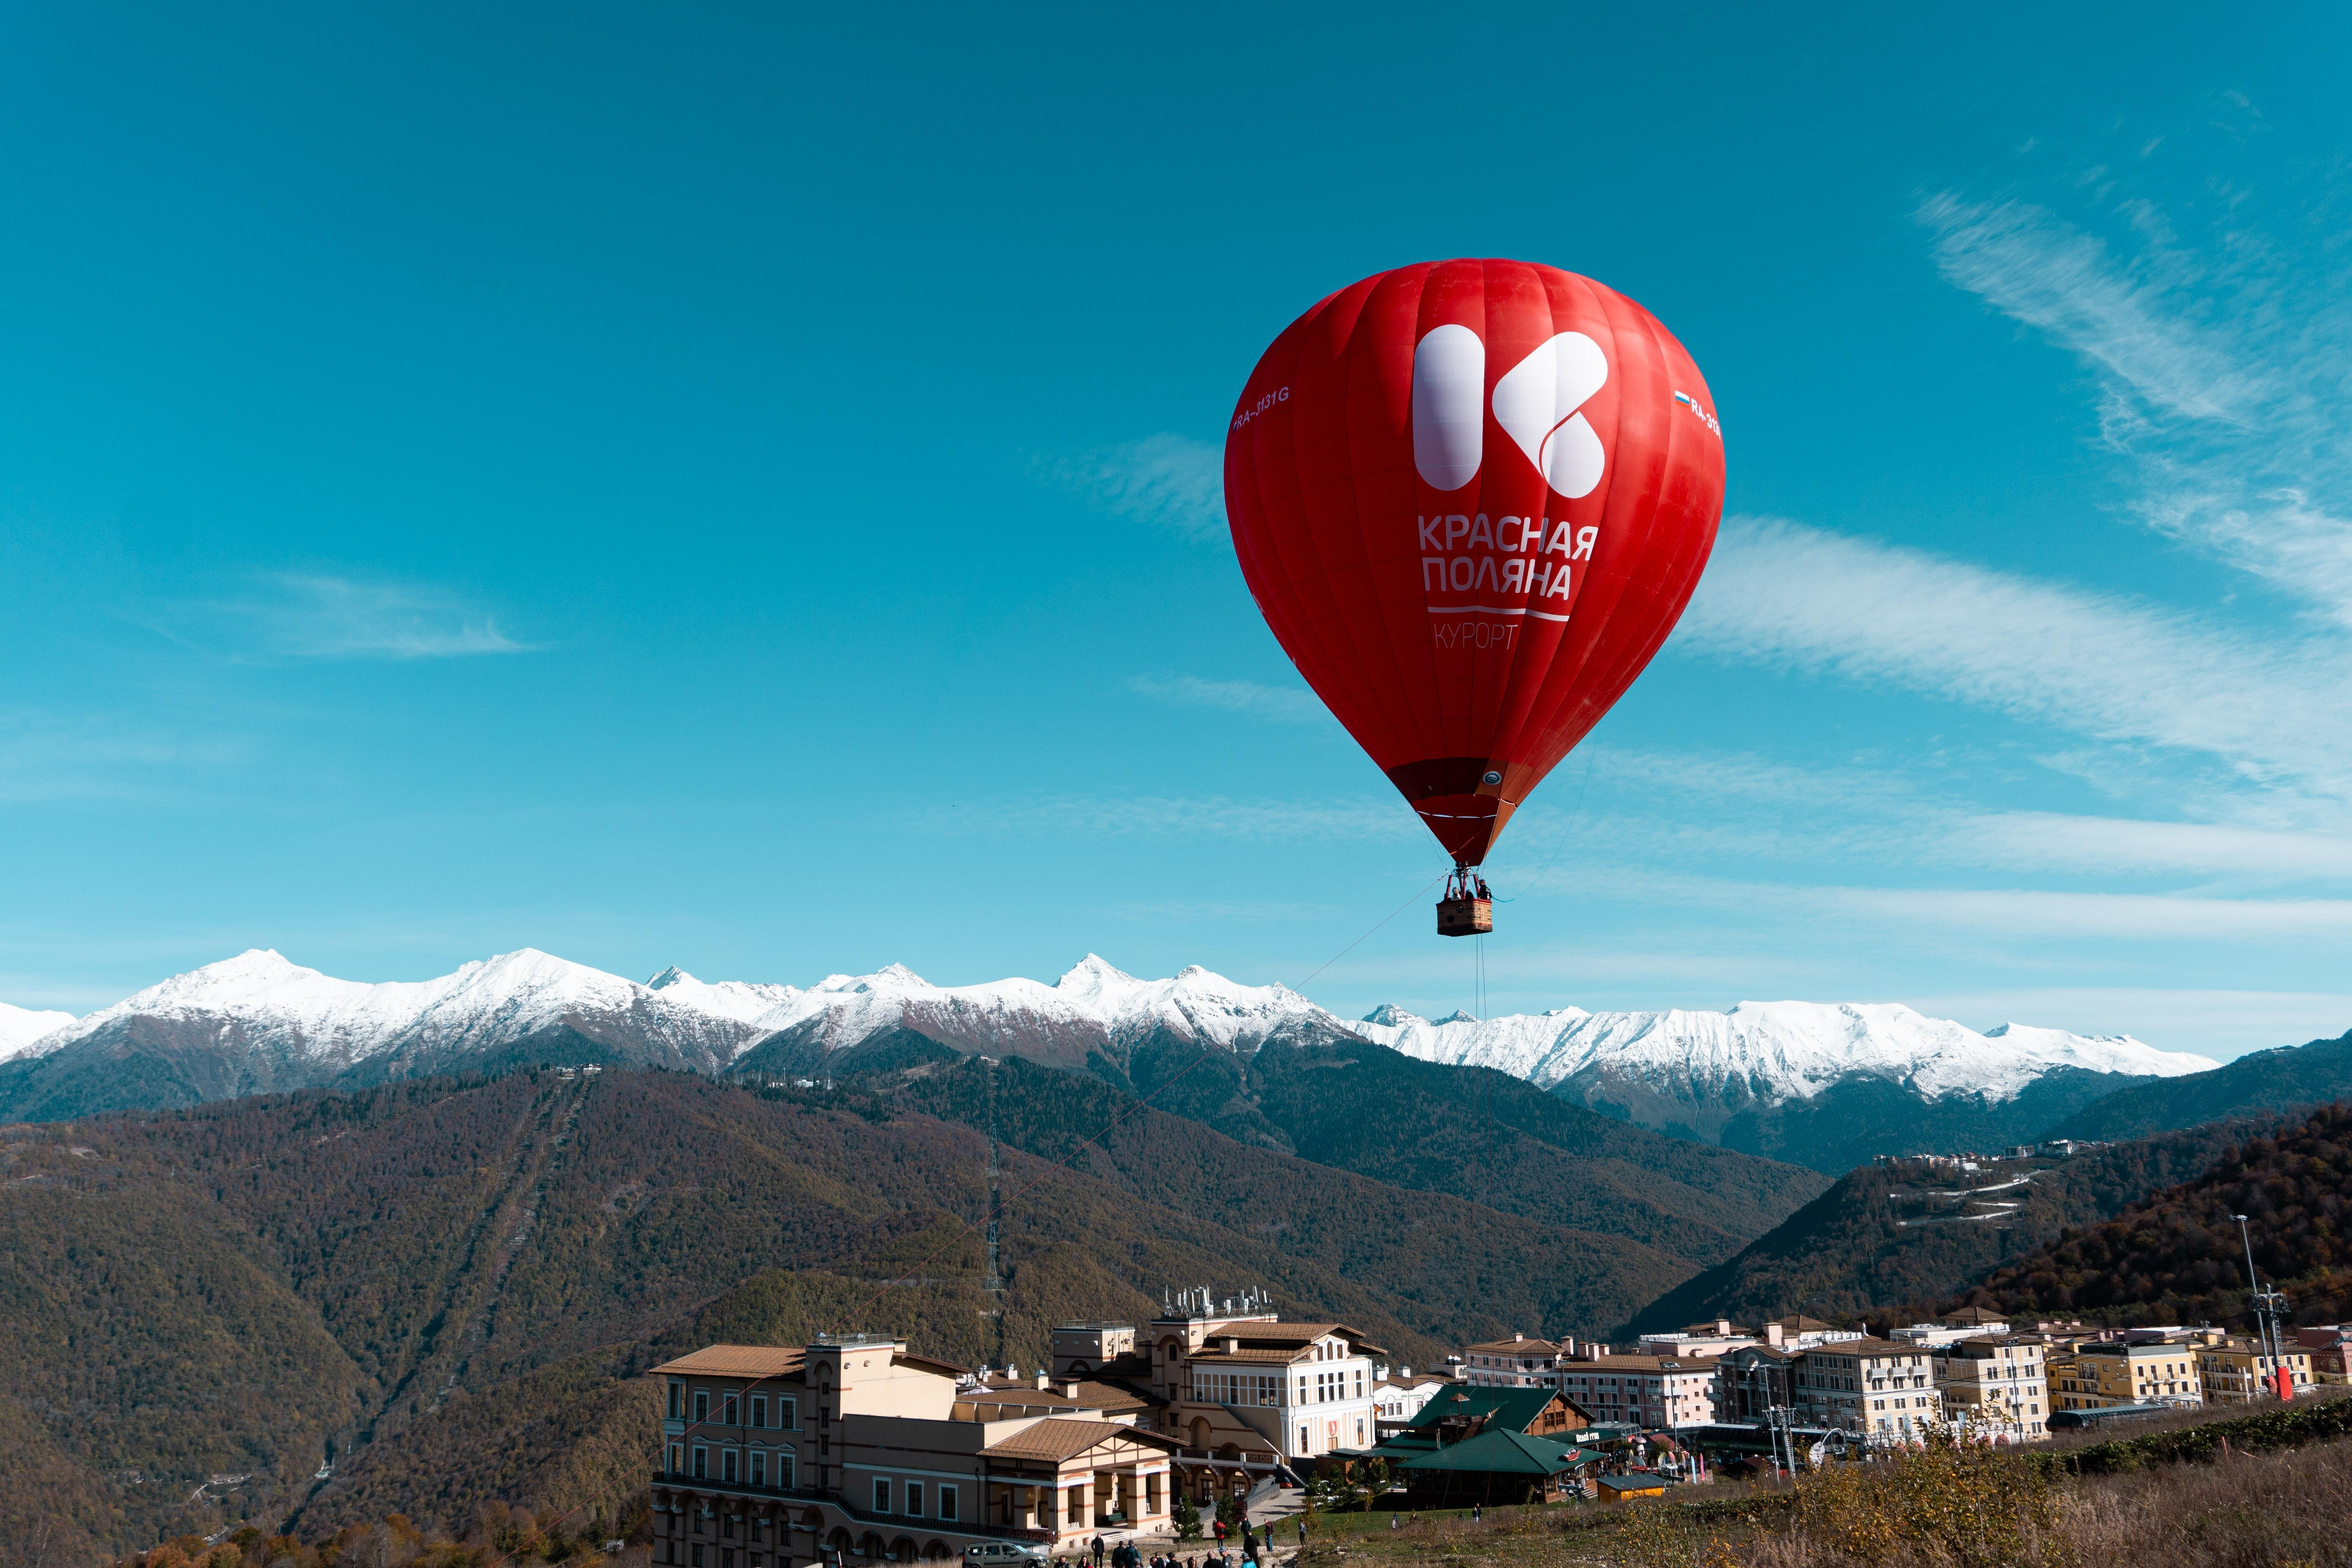hot air ballon: (1225, 262, 1724, 936)
